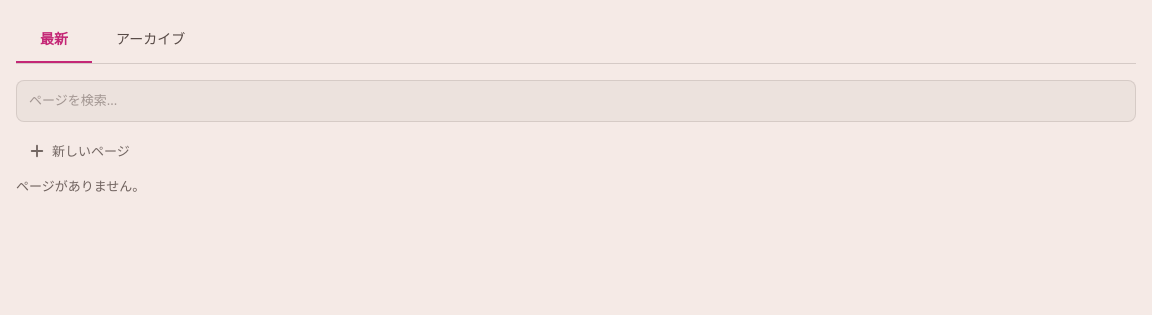
it: Sidebar › archive search › shows search field on archive tab
Click the tab "アーカイブ": (151, 40) [92,16,209,63]
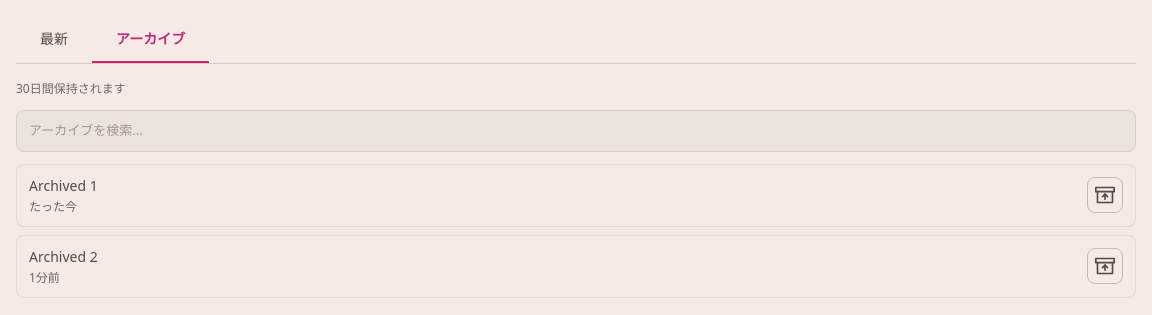
Expected: the field labelled "アーカイブを検索" is shown, [16,110,1136,152]
